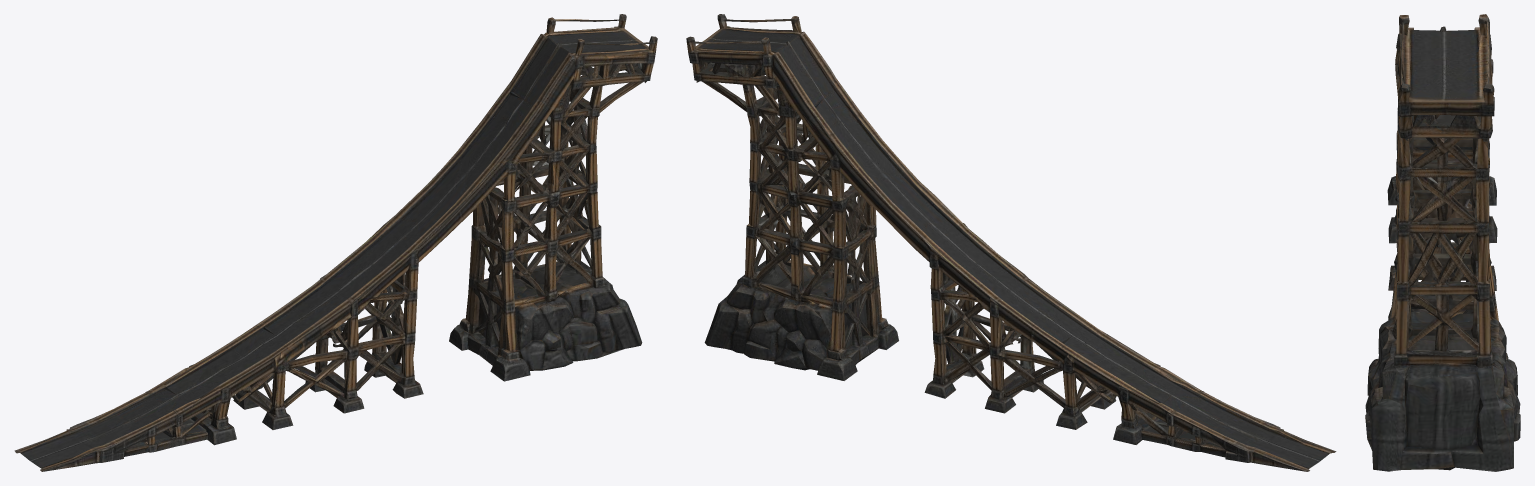
The model's file is stunt-launch-ramp.glb.
The picture shows the model from 3 angles, left to right: view 1: azimuth 30°, elevation 25°; view 2: azimuth 150°, elevation 25°; view 3: azimuth 270°, elevation 25°; orthographic projection. The views are drawn at different scales.
Bounding box in the file's own units: 1.9 × 0.9148 × 0.3046.
Materials: 1 (1 with a texture image).
